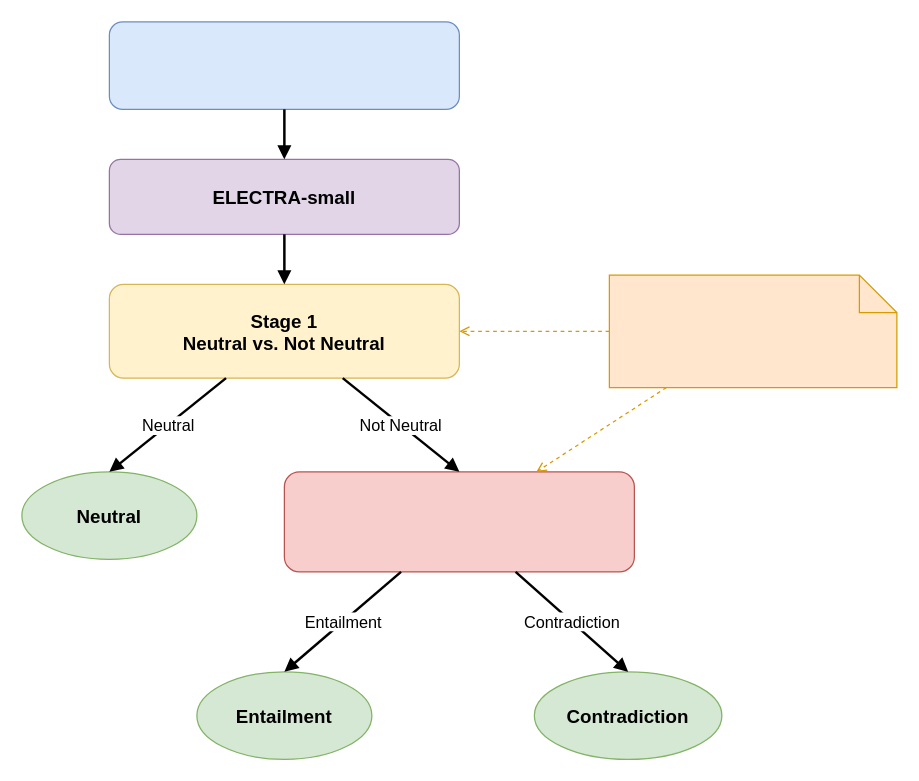
Image size: 919x781. Some labels were removed from this diagram. Each missing label, with the centre of its shape:
"Focus Learning: fine-tune on hard-to-learn examples" goes at (752,331).
"SNLI Input Premise + Hypothesis" goes at (283,65).
"Stage 2 Entailment vs. Contradiction" goes at (458,521).
